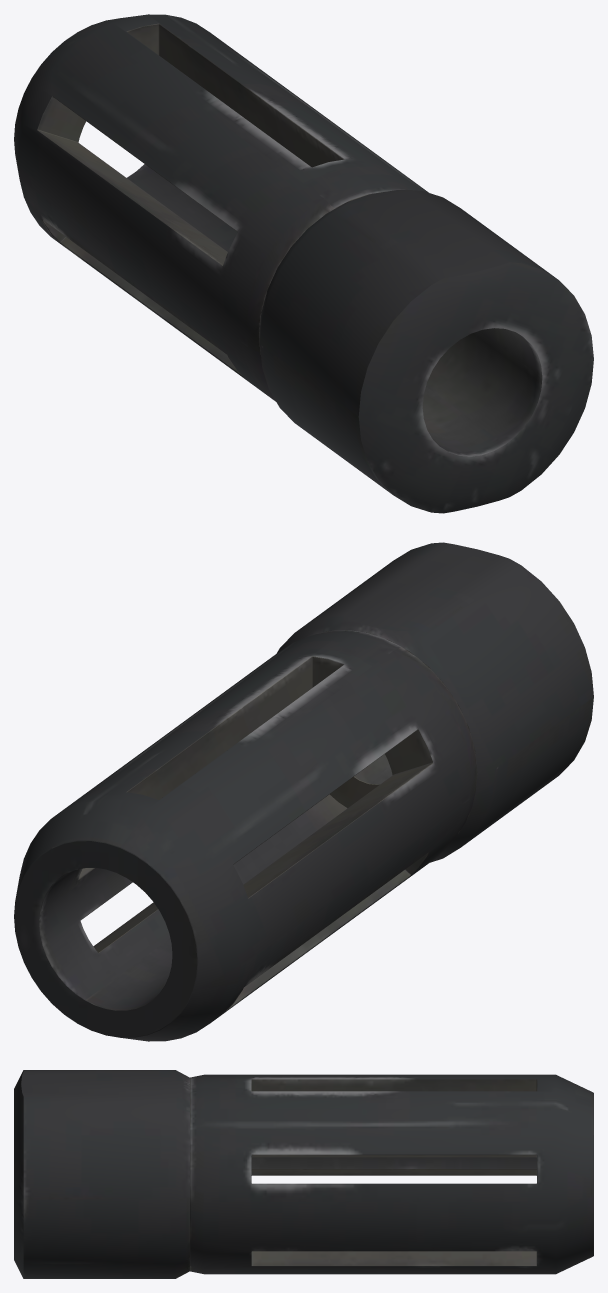
File: quebra_chamas_556.glb
3 renders of one model, top to bottom at view 1: azimuth 30°, elevation 25°; view 2: azimuth 150°, elevation 25°; view 3: azimuth 270°, elevation 25°, orthographic. The views are drawn at different scales.
Parts seen in each view (by area): view 1: quebra_chamas_556_boca; view 2: quebra_chamas_556_boca; view 3: quebra_chamas_556_boca.
Part boxes in pixels (x1,y1,x2,y2): quebra_chamas_556_boca: [14, 14, 593, 513]; quebra_chamas_556_boca: [14, 542, 593, 1041]; quebra_chamas_556_boca: [14, 1070, 593, 1278].
Size of the model in its own units: 0.022 by 0.021 by 0.061.
Materials: 1 (1 with a texture image).
